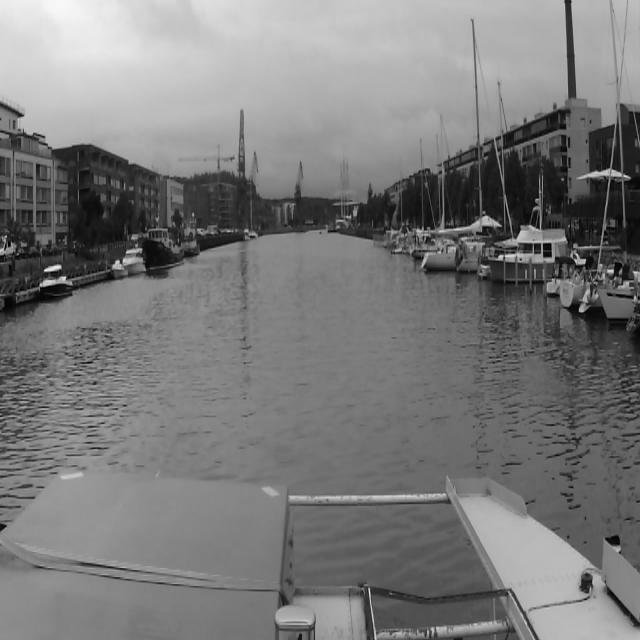ship: (423, 18, 481, 274), (605, 0, 640, 335), (488, 177, 568, 283), (148, 216, 188, 267), (38, 260, 74, 300), (124, 242, 146, 274), (248, 175, 258, 243), (112, 258, 126, 278)
